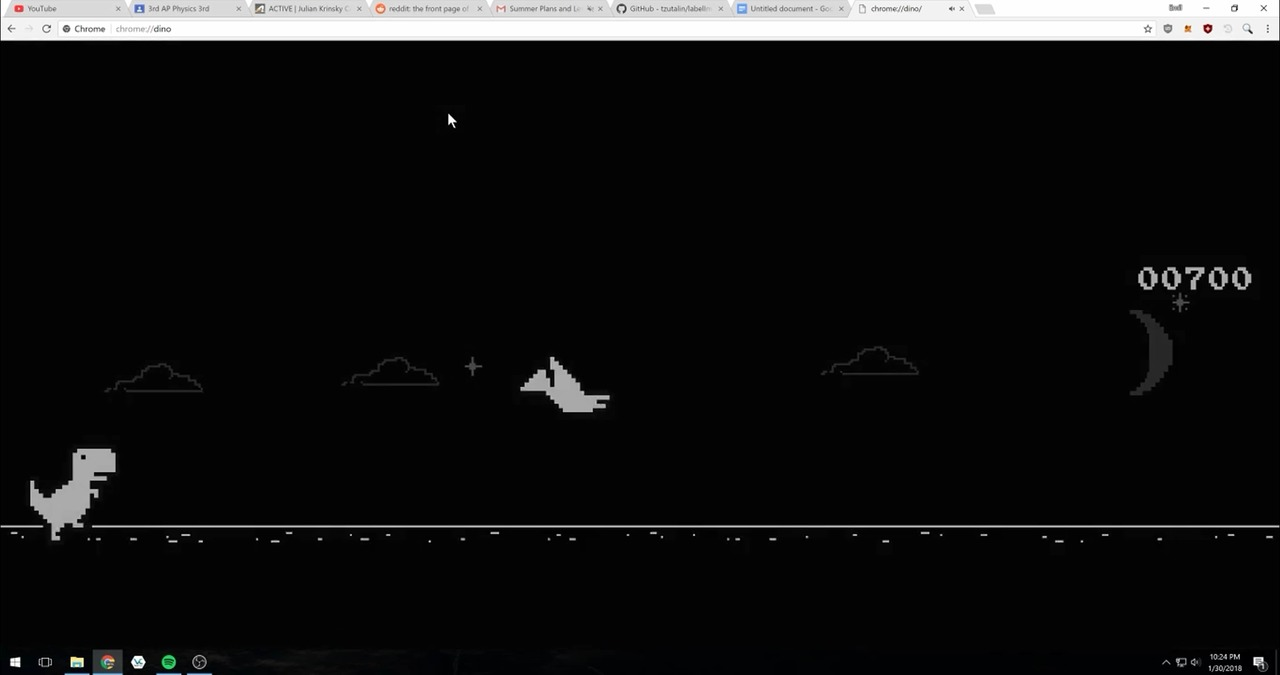bird: (520, 356, 612, 416)
dinosaur: (26, 448, 119, 543)
